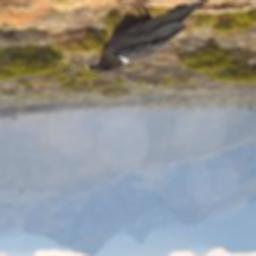Crow: (84, 0, 214, 75)
